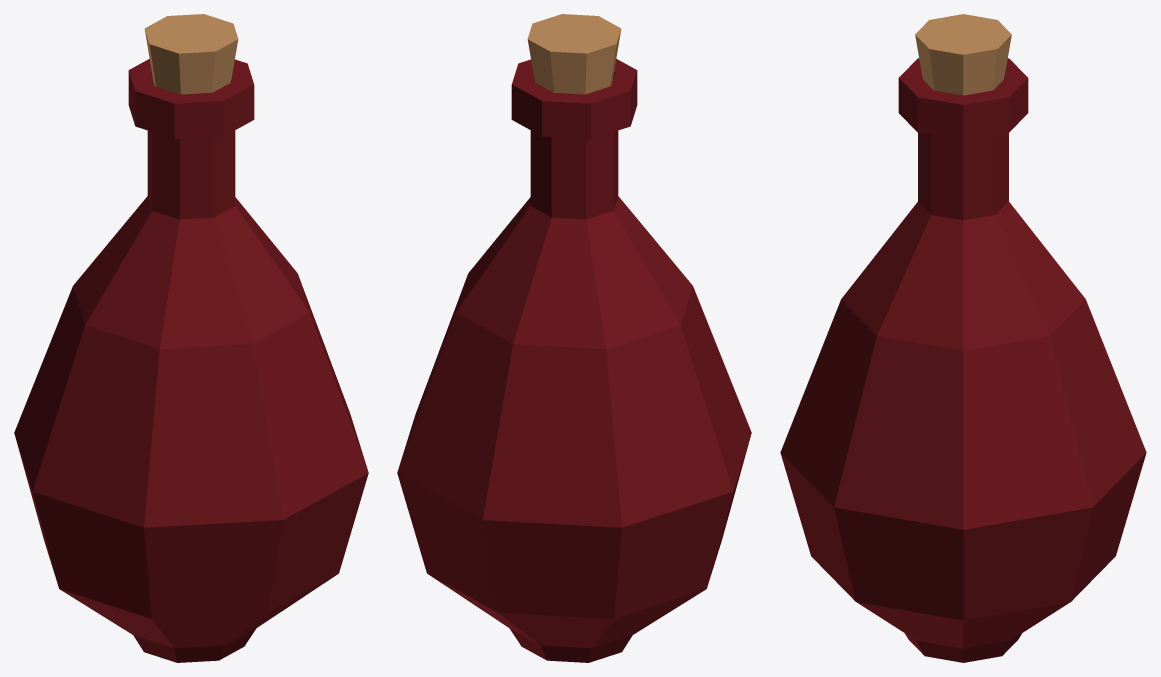
The model's file is Bottle_02.fbx.
3 views of the same model, side by side, from view 1: azimuth 30°, elevation 25°; view 2: azimuth 150°, elevation 25°; view 3: azimuth 270°, elevation 25° (orthographic).
Parts seen in each view (by area): view 1: Bottle_02; view 2: Bottle_02; view 3: Bottle_02.
Part boxes in pixels (left/top/right/bottom): Bottle_02: left=14, top=14, right=368, bottom=662; Bottle_02: left=397, top=14, right=751, bottom=662; Bottle_02: left=780, top=14, right=1146, bottom=662.
Size of the model in its own units: 12.07 by 22.02 by 12.07.
